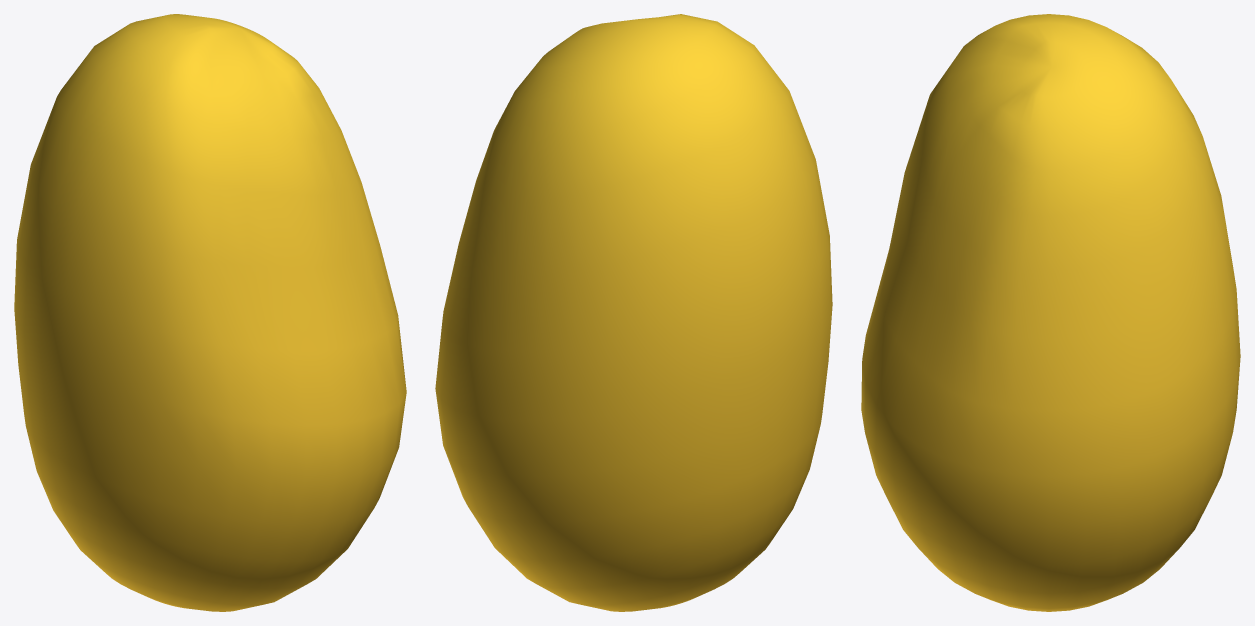
File: SoyulmusButunPatates.fbx
3 renders of one model, left to right at view 1: azimuth 30°, elevation 25°; view 2: azimuth 150°, elevation 25°; view 3: azimuth 270°, elevation 25°, orthographic. The views are drawn at different scales.
Visible parts, largest first — view 1: Sphere.003; view 2: Sphere.003; view 3: Sphere.003.
Part boxes in pixels (box(x1,y1,x2,y2)): Sphere.003: box(14, 14, 406, 611); Sphere.003: box(435, 14, 832, 611); Sphere.003: box(861, 14, 1240, 611).
Size of the model in its own units: 125 by 202 by 125.
